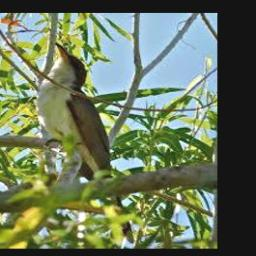Cuckoo: (37, 43, 135, 243)
